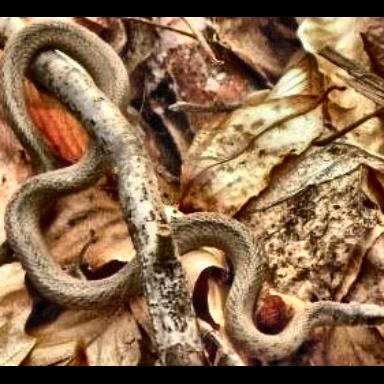snake: (0, 20, 384, 364)
